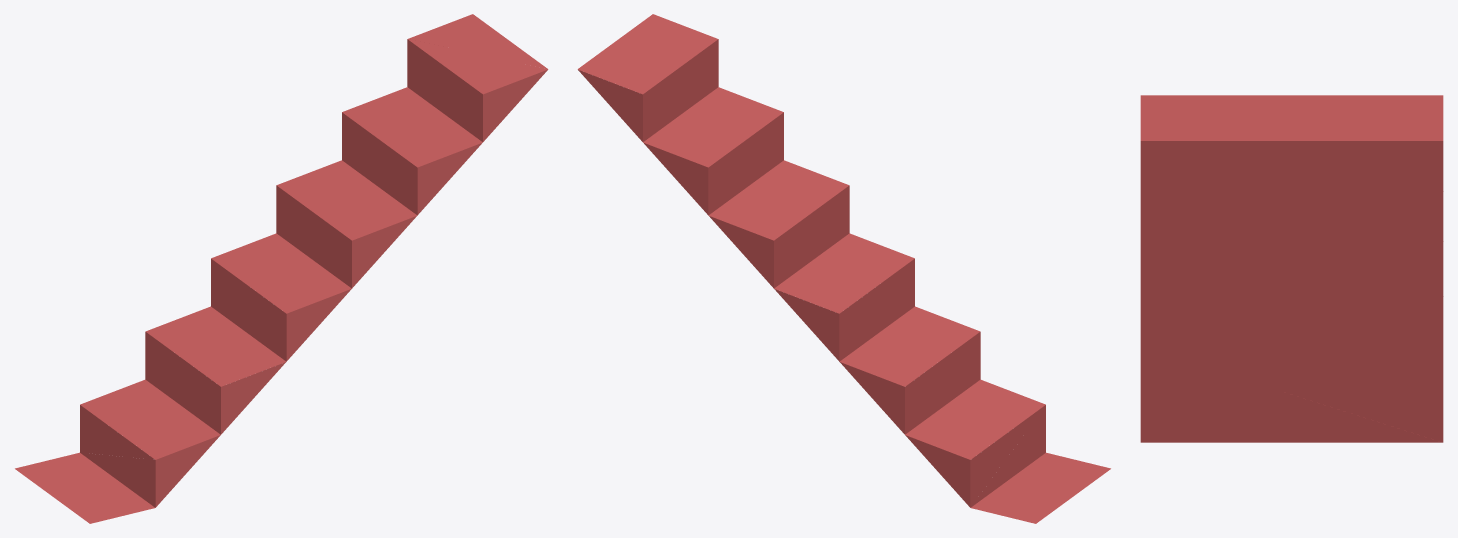
The model's file is km3_dan1.glb.
3 views of the same model, side by side, from view 1: azimuth 30°, elevation 25°; view 2: azimuth 150°, elevation 25°; view 3: azimuth 270°, elevation 25° (orthographic). The views are drawn at different scales.
Parts seen in each view (by area): view 1: km3_dan1_col; view 2: km3_dan1_col; view 3: km3_dan1_col.
Part boxes in pixels (x1,y1,x2,y2): km3_dan1_col: (15, 14, 548, 523); km3_dan1_col: (577, 14, 1110, 523); km3_dan1_col: (1140, 95, 1443, 442).
Size of the model in its own units: 2.1 by 1.5 by 0.6016.
